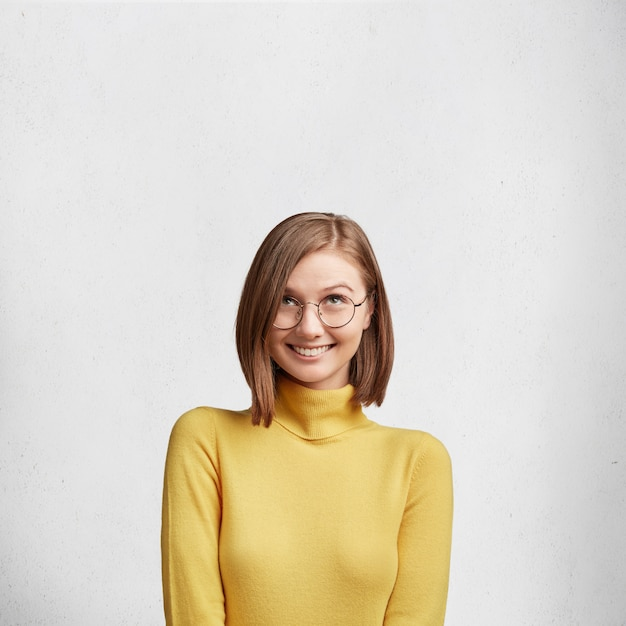teen: (228, 185, 399, 407)
